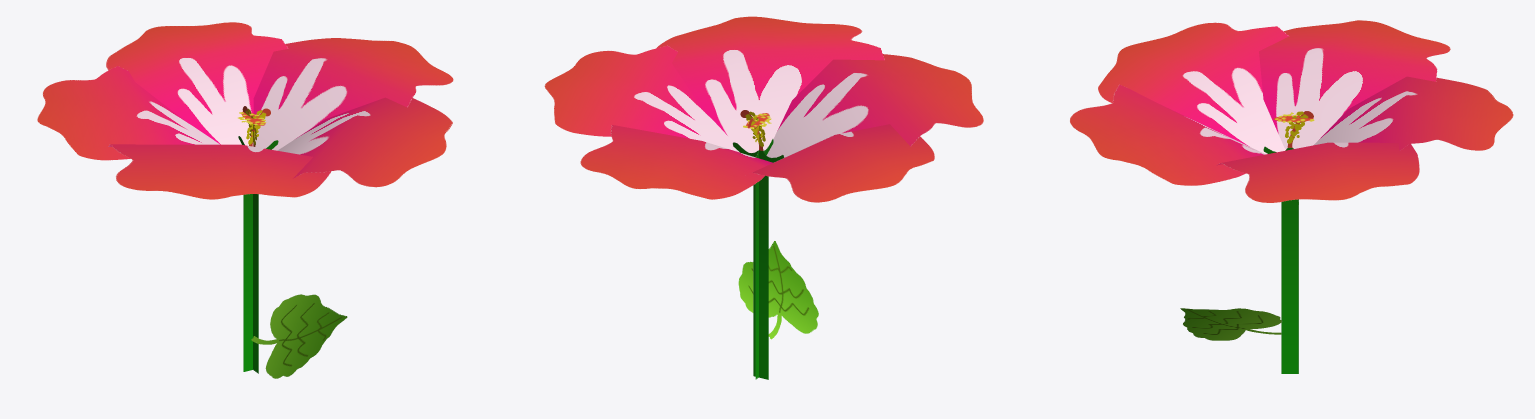
File: hibiskas.fbx
3 renders of one model, left to right at view 1: azimuth 30°, elevation 25°; view 2: azimuth 150°, elevation 25°; view 3: azimuth 270°, elevation 25°, orthographic. The views are drawn at different scales.
Visible parts, largest first — view 1: kaben_1, kaben_5, kaben_4, kaben_3, kaben_2, leaf, pPlane2, pPlane3; view 2: kaben_4, kaben_3, kaben_5, kaben_1, kaben_2, leaf, pPlane2, pPlane3; view 3: kaben_3, kaben_2, kaben_4, kaben_1, kaben_5, pPlane3, leaf.
Part boxes in pixels (x1=…): kaben_1: x1=106, y1=22, x2=288, y2=146; kaben_5: x1=253, y1=38, x2=453, y2=150; kaben_4: x1=277, y1=97, x2=452, y2=187; kaben_3: x1=108, y1=144, x2=331, y2=199; kaben_2: x1=37, y1=66, x2=219, y2=160; leaf: x1=251, y1=294, x2=347, y2=378; pPlane2: x1=243, y1=108, x2=278, y2=371; pPlane3: x1=238, y1=106, x2=258, y2=373; kaben_4: x1=656, y1=16, x2=884, y2=152; kaben_3: x1=766, y1=54, x2=983, y2=157; kaben_5: x1=544, y1=45, x2=739, y2=152; kaben_1: x1=580, y1=125, x2=772, y2=199; kaben_2: x1=752, y1=124, x2=934, y2=202; leaf: x1=738, y1=241, x2=818, y2=339; pPlane2: x1=732, y1=110, x2=784, y2=379; pPlane3: x1=748, y1=116, x2=773, y2=379; kaben_3: x1=1098, y1=22, x2=1289, y2=154; kaben_2: x1=1259, y1=20, x2=1450, y2=149; kaben_4: x1=1070, y1=84, x2=1265, y2=185; kaben_1: x1=1314, y1=76, x2=1513, y2=150; kaben_5: x1=1216, y1=142, x2=1419, y2=202; pPlane3: x1=1263, y1=111, x2=1313, y2=373; leaf: x1=1180, y1=308, x2=1282, y2=340.
Bounding box in the file's own units: 3.71 × 2.68 × 3.64.
